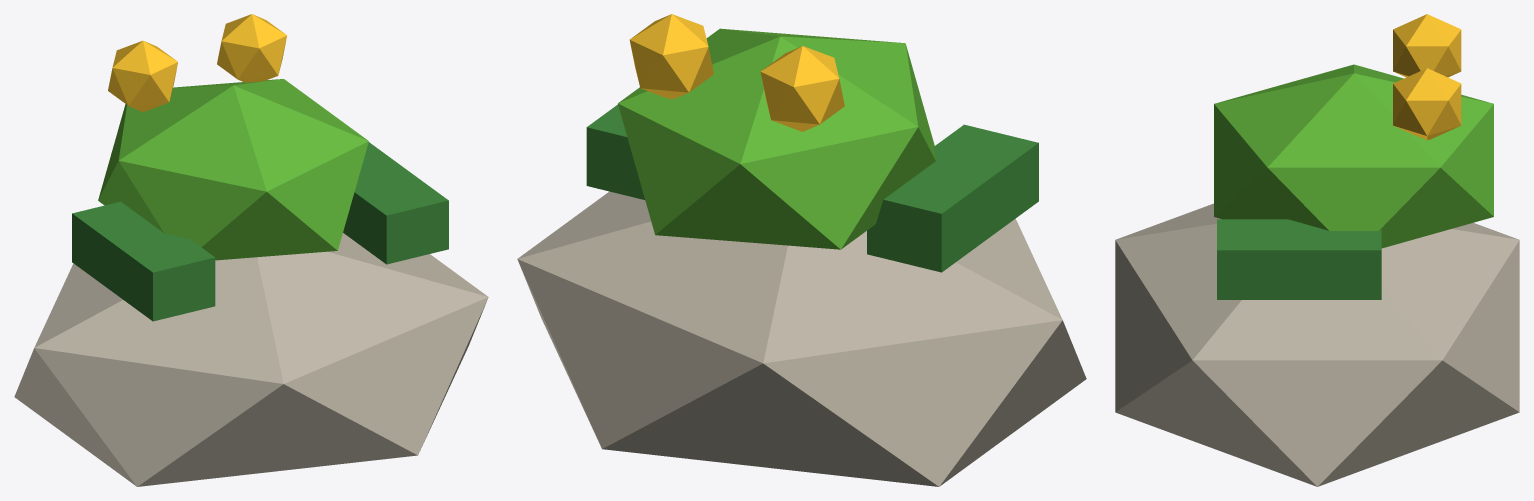
File: sapo.glb
3 renders of one model, left to right at view 1: azimuth 30°, elevation 25°; view 2: azimuth 150°, elevation 25°; view 3: azimuth 270°, elevation 25°, orthographic. The views are drawn at different scales.
Visible parts, largest first — view 1: corpo; view 2: corpo; view 3: corpo.
Part boxes in pixels (bbox=[...]): corpo: bbox=[14, 14, 488, 486]; corpo: bbox=[517, 14, 1086, 486]; corpo: bbox=[1115, 14, 1519, 486].
Size of the model in its own units: 0.2791 by 0.2435 by 0.2212.
